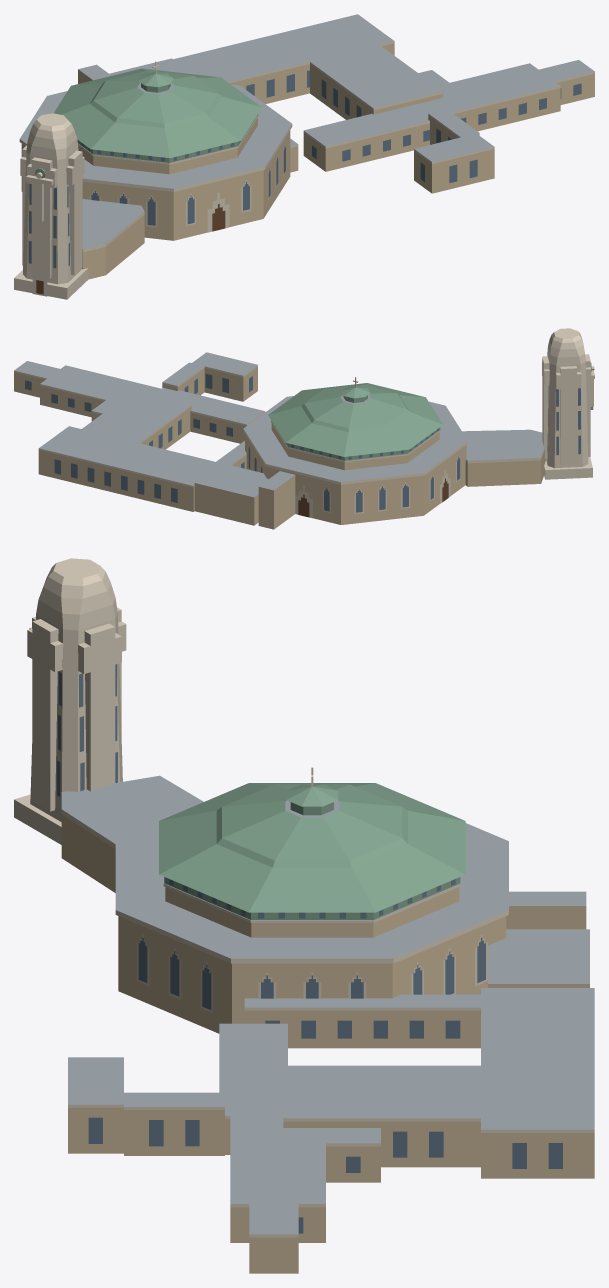
File: det-shrine-little-flower.glb
The picture shows the model from 3 angles, top to bottom: view 1: azimuth 30°, elevation 25°; view 2: azimuth 150°, elevation 25°; view 3: azimuth 270°, elevation 25°; orthographic projection. The views are drawn at different scales.
Parts seen in each view (by area): view 1: National Shrine of the Little Flower Basilica; view 2: National Shrine of the Little Flower Basilica; view 3: National Shrine of the Little Flower Basilica.
Part boxes in pixels (x1,y1,x2,y2): National Shrine of the Little Flower Basilica: [14, 14, 594, 299]; National Shrine of the Little Flower Basilica: [14, 328, 594, 529]; National Shrine of the Little Flower Basilica: [14, 558, 594, 1273].
Bounding box in the file's own units: 126 × 31 × 64.43.
